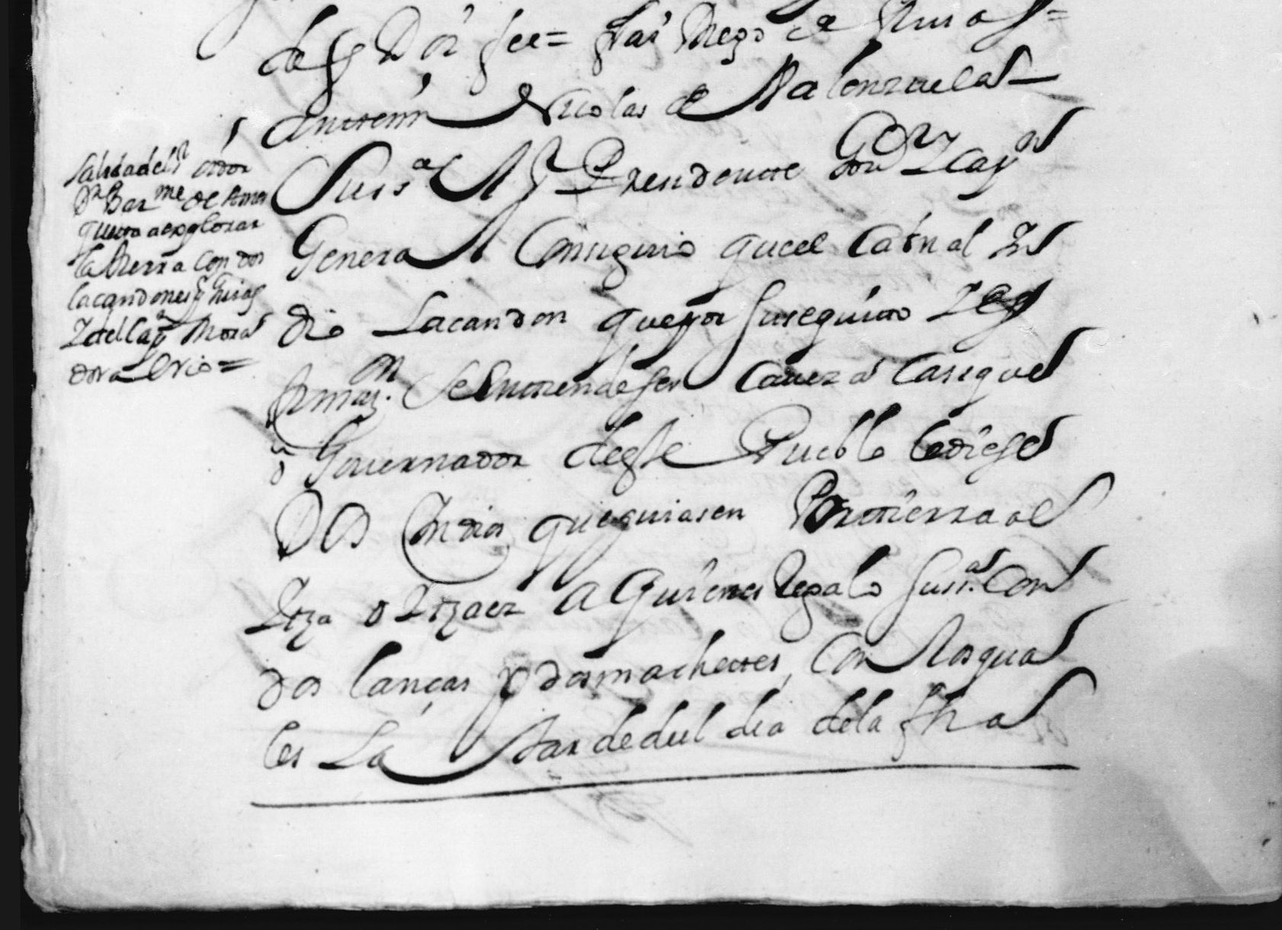lacandon: (371, 290, 566, 337)
